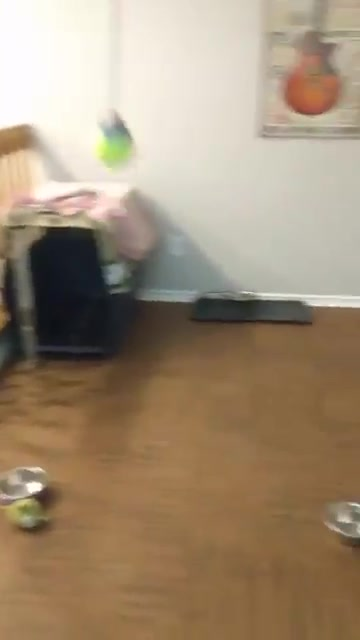tennis_ball: (94, 129, 135, 171)
